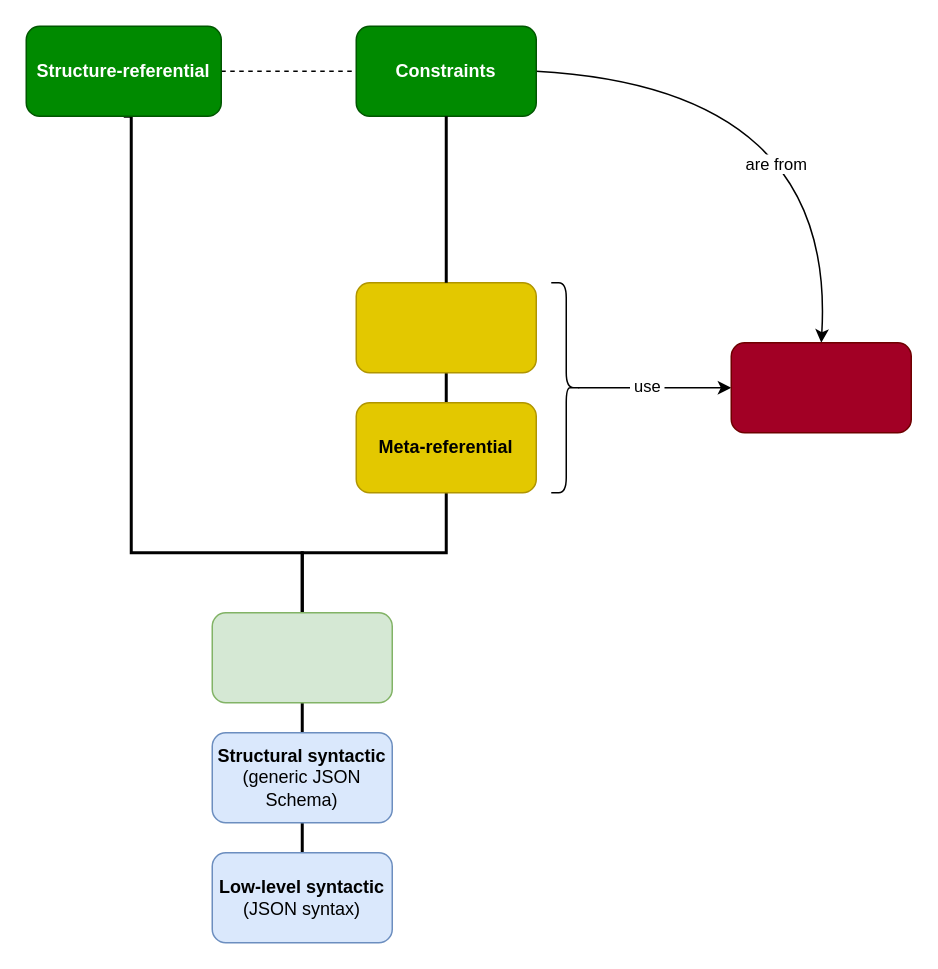
Some shapes in this 938 by 969 pixel diagram are drawn without their labels. Here are the shapes that lost their labels. From the top down, the centre of each, then its label:
At point (445, 327): "Meta-structural".
At point (820, 387): "Metamodels".
At point (301, 657): "Hierarchical".
